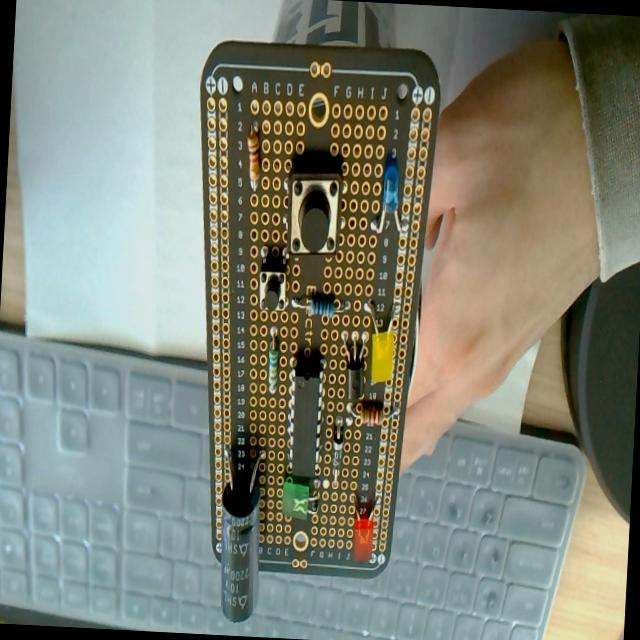Electrolytic capacitor: (216, 444, 270, 620)
IC: (280, 359, 328, 518)
diode: (330, 418, 346, 487)
led: (360, 297, 398, 388), (369, 158, 412, 238), (350, 498, 376, 564)
resistor: (266, 325, 282, 396), (246, 128, 264, 190), (351, 400, 390, 426), (310, 294, 336, 318)
switch: (284, 166, 343, 258), (258, 252, 290, 312)
transistor: (343, 336, 368, 404)
